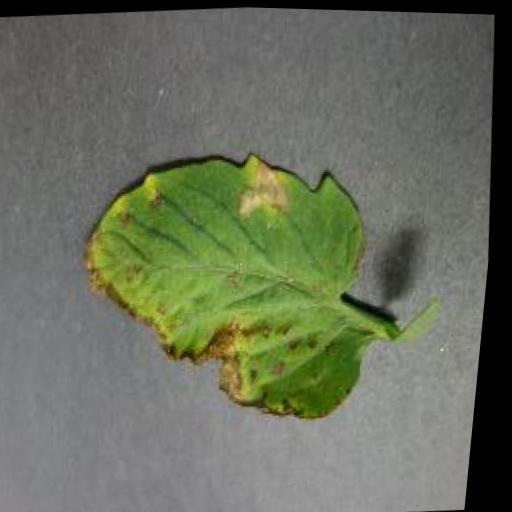Bacterial Spot: (49, 121, 435, 450)
